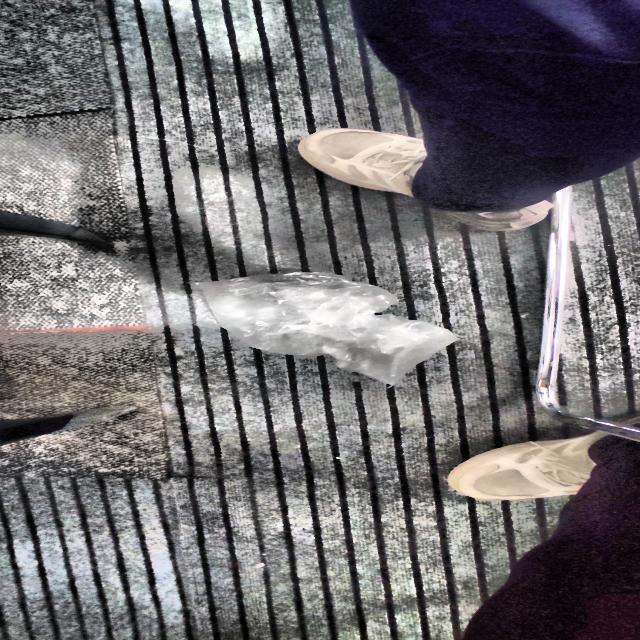plastic bag: (194, 272, 458, 385)
